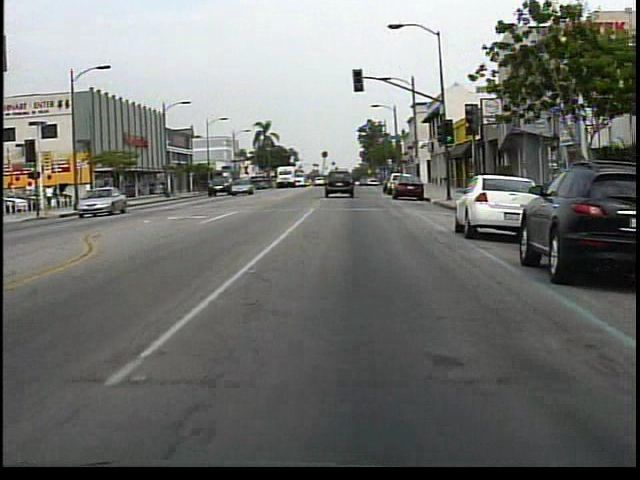person: (45, 182, 58, 212)
